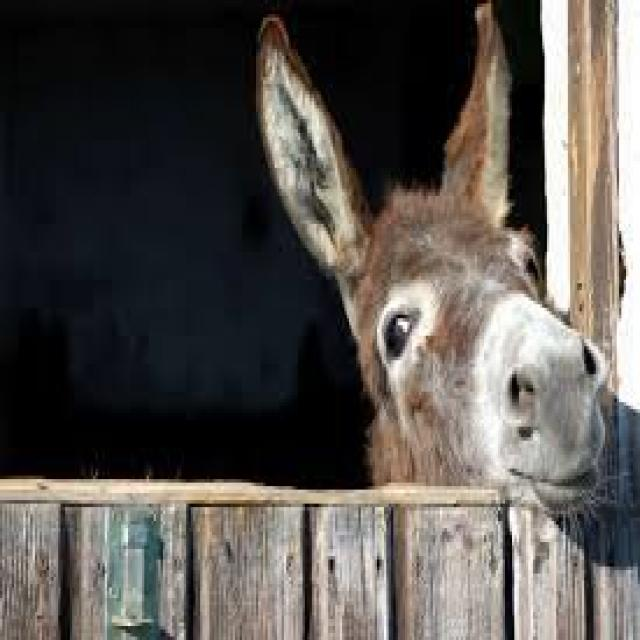donkey: (230, 91, 618, 532)
